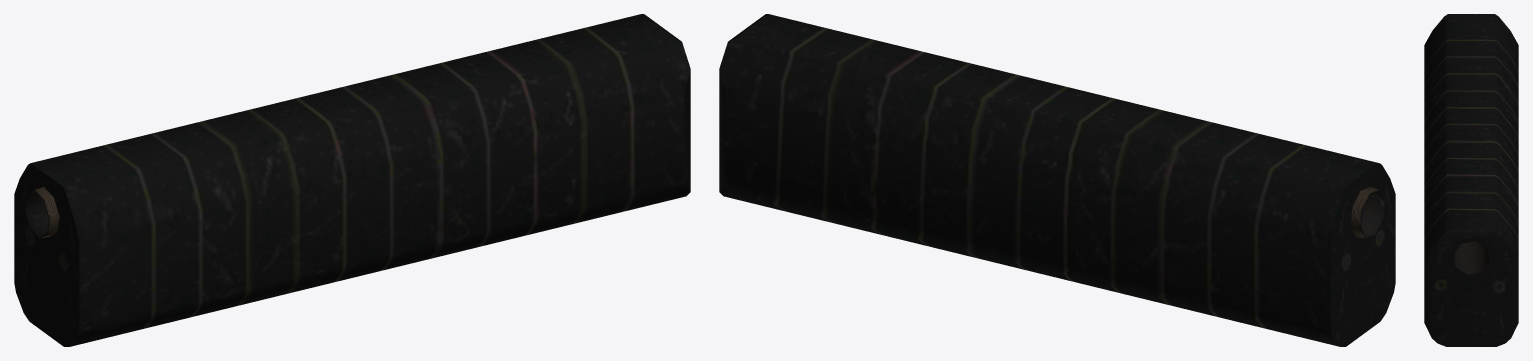
File: ST_Muzzle_Suppressor_Saiga.FBX
The picture shows the model from 3 angles, left to right: view 1: azimuth 30°, elevation 25°; view 2: azimuth 150°, elevation 25°; view 3: azimuth 270°, elevation 25°; orthographic projection. The views are drawn at different scales.
Parts seen in each view (by area): view 1: ST_Muzzle_Suppressor_Saiga; view 2: ST_Muzzle_Suppressor_Saiga; view 3: ST_Muzzle_Suppressor_Saiga.
Boxes of the visible parts, bbox=[...] form: ST_Muzzle_Suppressor_Saiga: bbox=[14, 14, 690, 346]; ST_Muzzle_Suppressor_Saiga: bbox=[719, 14, 1395, 346]; ST_Muzzle_Suppressor_Saiga: bbox=[1424, 14, 1518, 346].
Size of the model in its own units: 30.48 by 7.41 by 5.49.
1 material, 1 textured.
